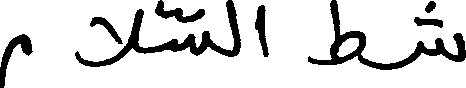ا: (255, 3, 269, 58)
س: (170, 6, 209, 56)
ش: (419, 0, 464, 62)
ط: (306, 0, 364, 66)
ل: (223, 0, 240, 58)
لا: (74, 6, 144, 67)
م: (0, 31, 32, 86)
